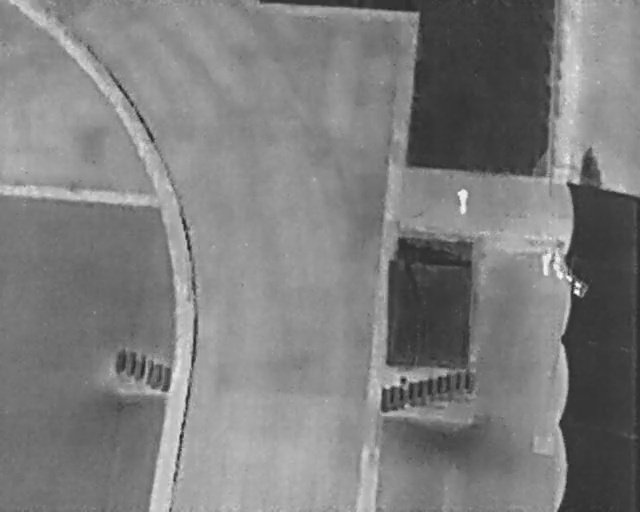Person: (538, 249, 553, 279), (455, 186, 470, 215)
